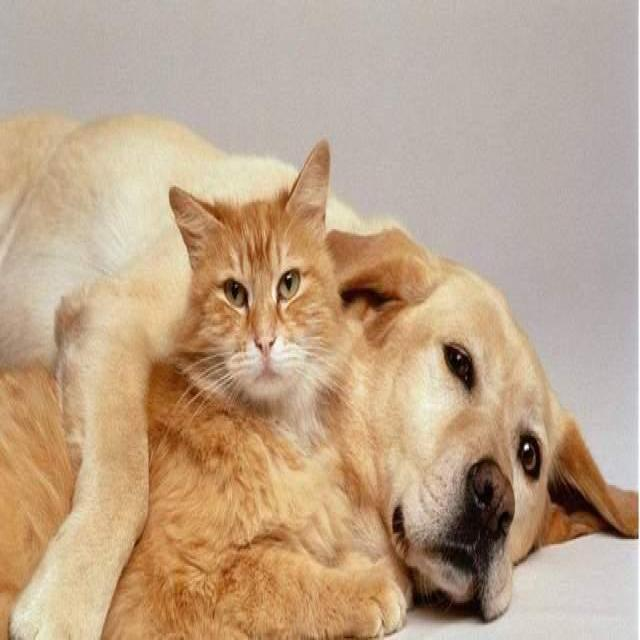cat: (157, 138, 355, 450)
dog: (362, 214, 626, 640)
